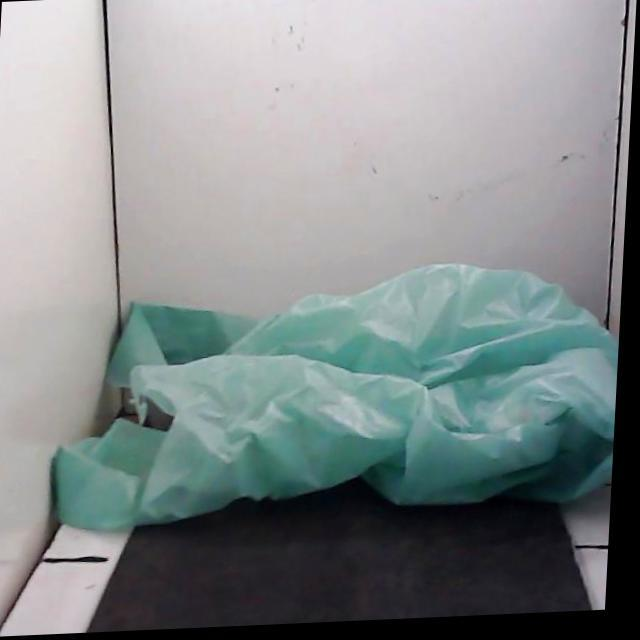plastico: (53, 264, 617, 529)
